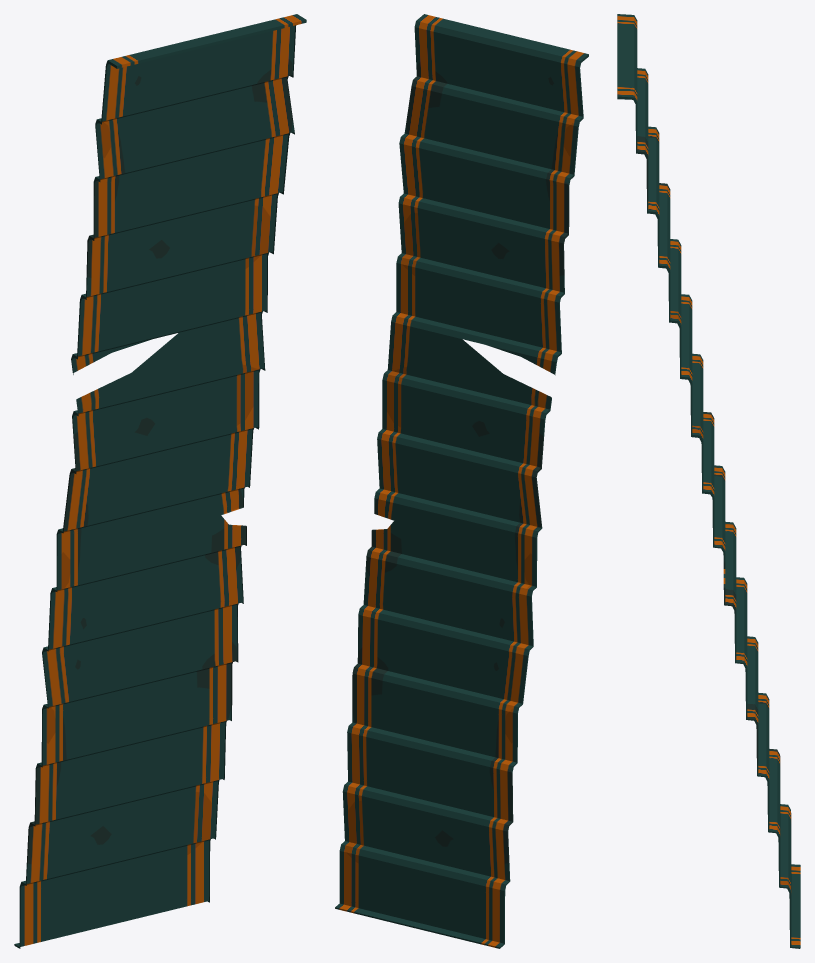
The model's file is Carpet 01 Stairs.FBX.
The picture shows the model from 3 angles, left to right: view 1: azimuth 30°, elevation 25°; view 2: azimuth 150°, elevation 25°; view 3: azimuth 270°, elevation 25°; orthographic projection. The views are drawn at different scales.
Parts seen in each view (by area): view 1: Carpet 01 Stairs; view 2: Carpet 01 Stairs; view 3: Carpet 01 Stairs.
Part boxes in pixels (x1=…): Carpet 01 Stairs: x1=14, y1=14, x2=306, y2=948; Carpet 01 Stairs: x1=335, y1=14, x2=588, y2=948; Carpet 01 Stairs: x1=617, y1=14, x2=800, y2=948.
Size of the model in its own units: 175 by 802 by 156.
